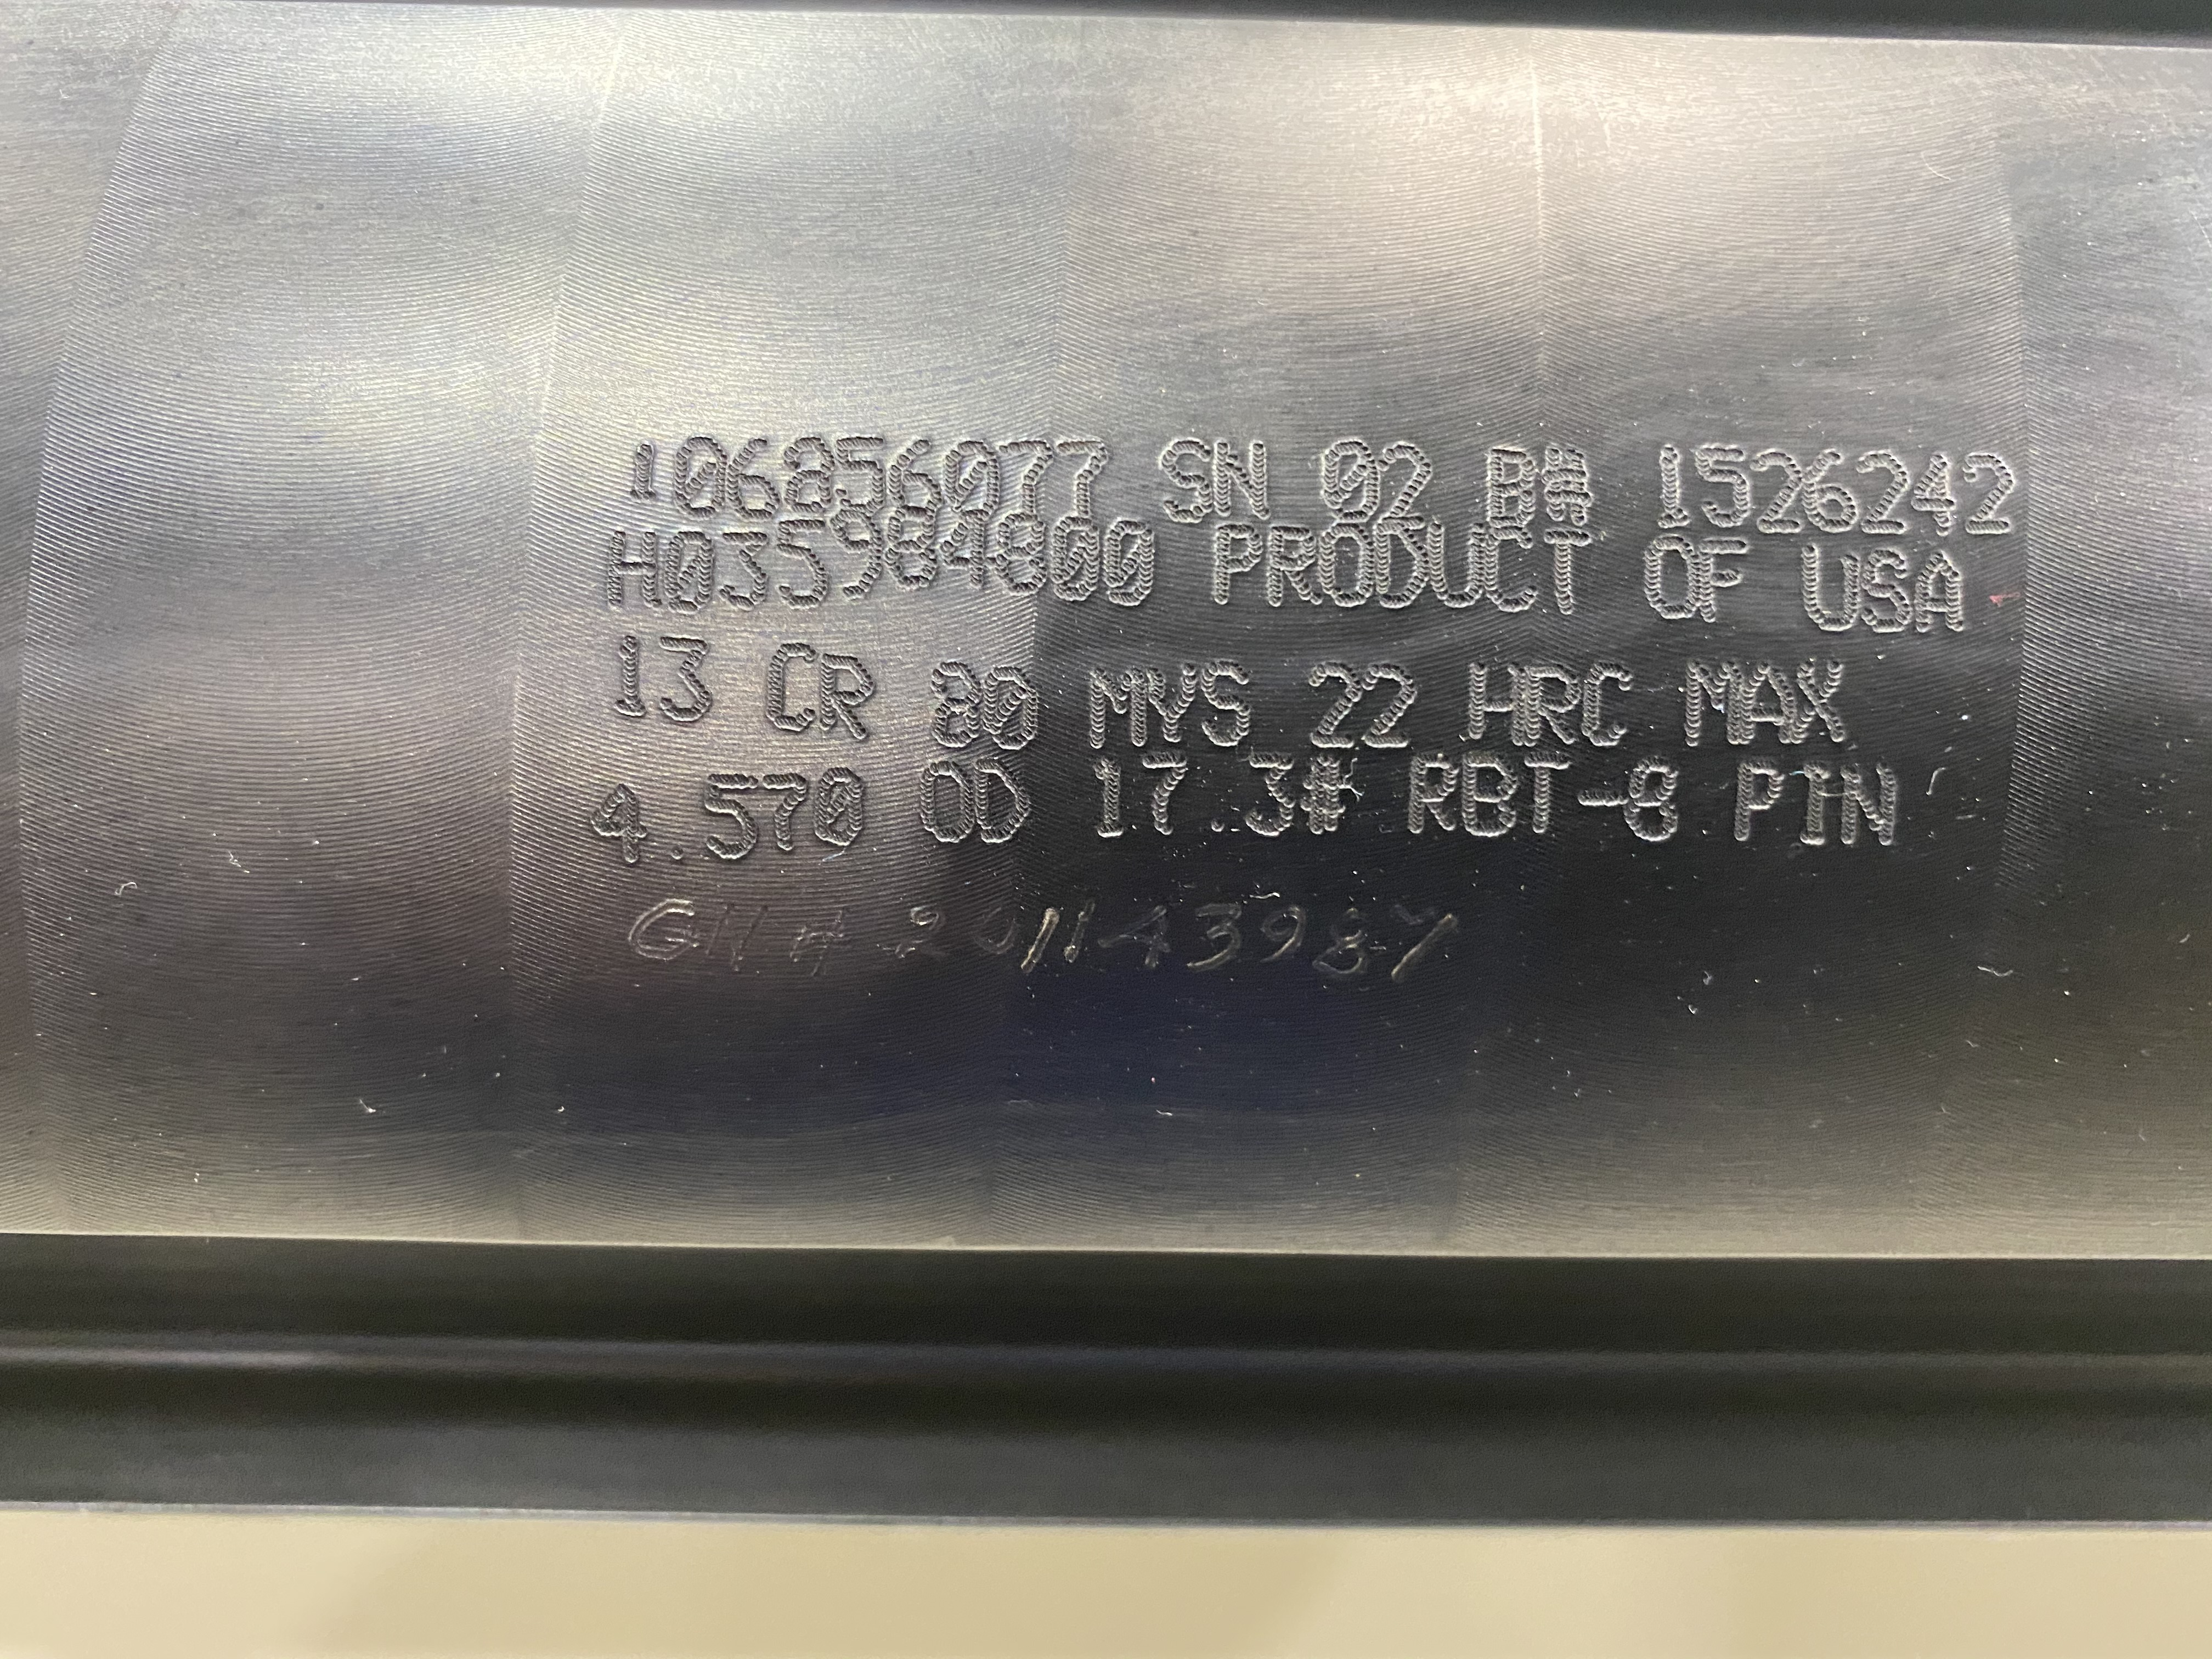character: (1691, 755, 1792, 854), (561, 772, 651, 873), (1780, 542, 1862, 652), (707, 411, 782, 530), (773, 415, 850, 526), (1447, 652, 1527, 756), (1838, 756, 1914, 861), (1071, 659, 1151, 758), (610, 882, 704, 965), (1669, 652, 1738, 763), (1094, 892, 1186, 976), (1198, 432, 1280, 526), (906, 653, 981, 756), (780, 894, 860, 988), (968, 756, 1040, 861), (763, 509, 836, 610), (878, 884, 963, 969), (829, 422, 899, 526), (1534, 436, 1604, 540), (695, 885, 775, 976), (1622, 533, 1700, 626), (806, 760, 871, 871), (1620, 751, 1689, 854), (756, 631, 819, 744), (1355, 648, 1423, 753), (1160, 423, 1219, 542), (1312, 427, 1385, 523), (810, 645, 883, 741), (1686, 434, 1756, 533), (1850, 547, 1916, 652), (1132, 751, 1202, 850), (1221, 751, 1296, 843), (1954, 437, 2017, 547), (1366, 514, 1432, 617), (650, 523, 721, 617), (1254, 511, 1320, 612), (650, 620, 716, 721), (1470, 441, 1541, 533), (1792, 655, 1853, 763), (930, 509, 998, 605), (1689, 535, 1757, 631), (1453, 751, 1521, 847), (1064, 762, 1137, 850), (900, 769, 972, 859), (1576, 653, 1646, 746), (1181, 892, 1251, 985), (1850, 439, 1914, 538), (1092, 507, 1157, 606), (1310, 511, 1372, 612), (698, 762, 763, 859), (601, 516, 662, 619), (1045, 511, 1104, 615), (1799, 439, 1862, 535), (988, 509, 1050, 605), (1738, 655, 1801, 751), (1251, 894, 1317, 985), (1425, 514, 1484, 615), (1045, 889, 1104, 990), (1292, 653, 1357, 746), (981, 659, 1042, 756), (1399, 755, 1460, 852), (1144, 650, 1205, 746), (1008, 894, 1069, 990), (1480, 523, 1540, 620), (1043, 430, 1109, 518), (752, 765, 806, 871), (1292, 751, 1353, 845), (935, 429, 1000, 518), (664, 423, 725, 516), (1379, 427, 1432, 533), (599, 425, 665, 509), (1197, 653, 1254, 749), (961, 890, 1021, 983), (1568, 751, 1620, 856), (1747, 436, 1801, 535), (1519, 751, 1569, 856), (1312, 899, 1376, 981), (829, 505, 883, 603), (1911, 547, 1965, 645), (1909, 444, 1959, 547), (1540, 521, 1590, 624), (1639, 436, 1693, 532), (1209, 509, 1263, 605), (885, 509, 939, 603), (714, 521, 770, 612), (1791, 755, 1838, 861), (1524, 657, 1580, 746), (601, 626, 653, 718), (1000, 430, 1049, 518), (895, 430, 942, 516)
